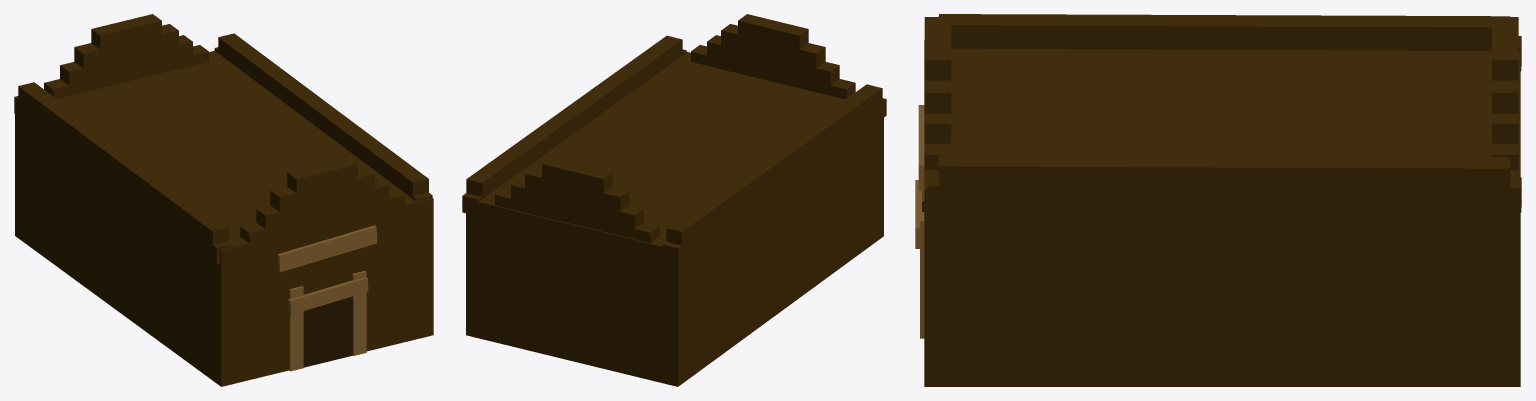
The model's file is Haunted House.fbx.
3 renders of one model, left to right at view 1: azimuth 30°, elevation 25°; view 2: azimuth 150°, elevation 25°; view 3: azimuth 270°, elevation 25°, orthographic. The views are drawn at different scales.
Parts seen in each view (by area): view 1: pCube19; view 2: pCube19; view 3: pCube19.
Boxes of the visible parts, x1,y1,x2,y2 form: pCube19: (14, 14, 433, 386); pCube19: (462, 14, 886, 386); pCube19: (915, 14, 1521, 386).
Size of the model in its own units: 13.76 by 11.33 by 22.78.
